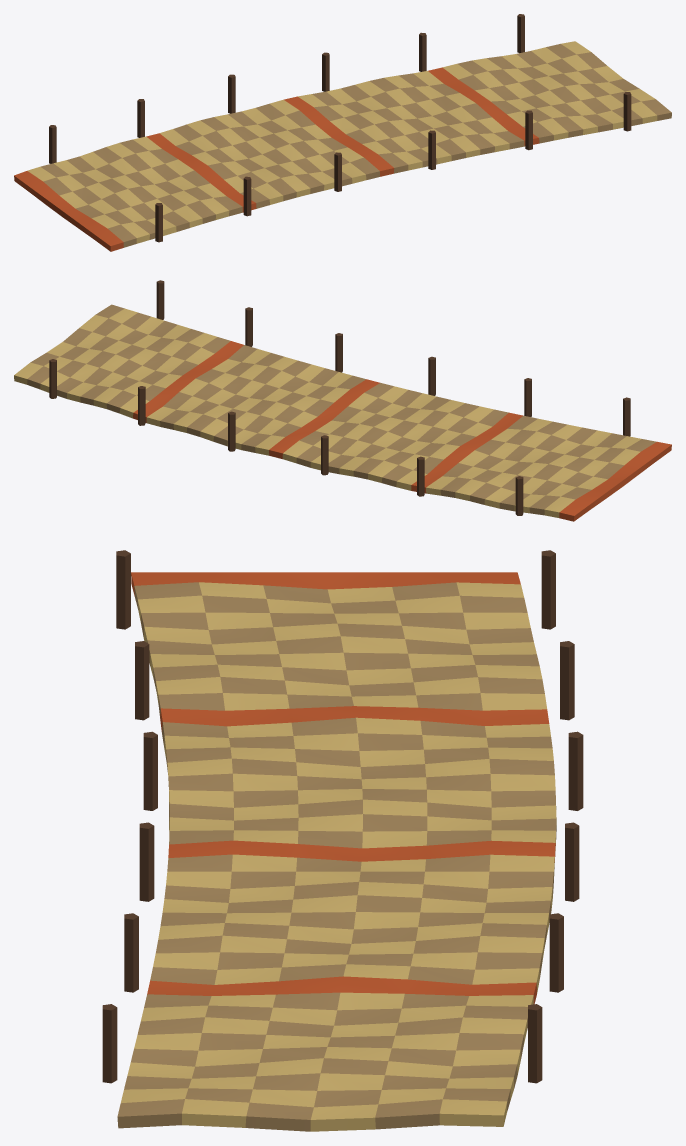
The model's file is deco_walkway_woven.fbx.
3 views of the same model, one above another, from view 1: azimuth 30°, elevation 25°; view 2: azimuth 150°, elevation 25°; view 3: azimuth 270°, elevation 25° (orthographic). The views are drawn at different scales.
Parts seen in each view (by area): view 1: Walkway_Woven_Mat, Walkway_Woven_Stakes; view 2: Walkway_Woven_Mat, Walkway_Woven_Stakes; view 3: Walkway_Woven_Mat, Walkway_Woven_Stakes.
Boxes of the visible parts, x1,y1,x2,y2 form: Walkway_Woven_Mat: (14,41,671,251); Walkway_Woven_Stakes: (49,14,631,242); Walkway_Woven_Mat: (14,304,671,521); Walkway_Woven_Stakes: (49,280,630,515); Walkway_Woven_Mat: (117,572,556,1131); Walkway_Woven_Stakes: (102,550,583,1083).
Size of the model in its own units: 400 by 27.5 by 149.
